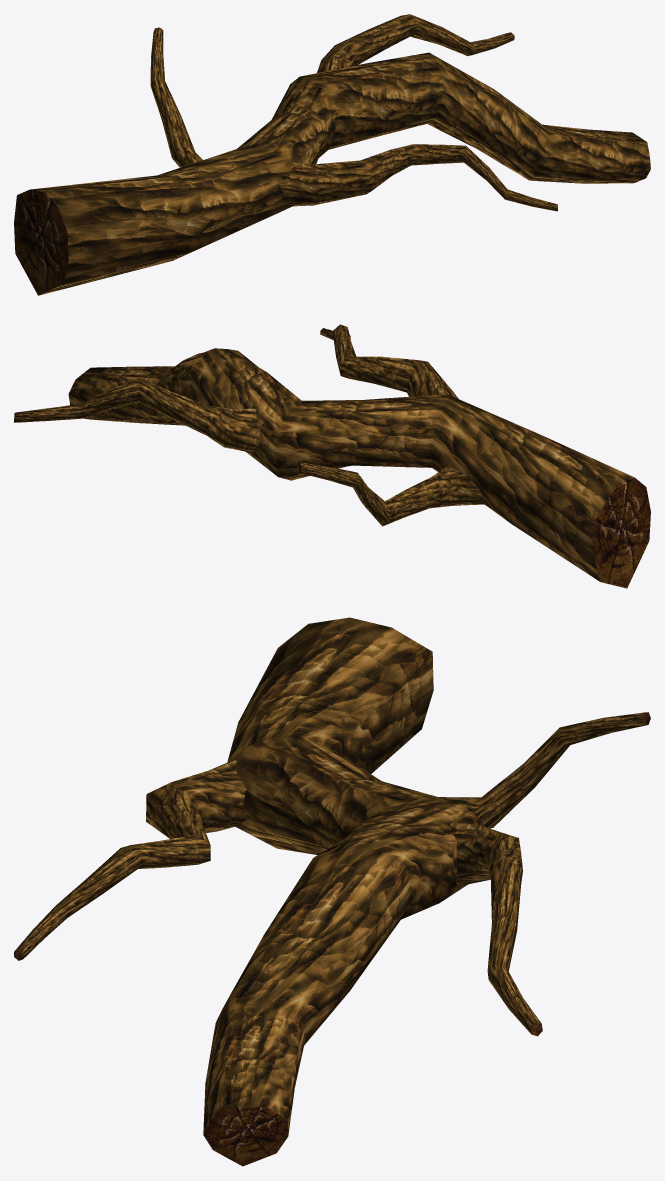
The model's file is LVL_ROAST_MUTTON_FALLEN_TREE.fbx.
The picture shows the model from 3 angles, top to bottom: view 1: azimuth 30°, elevation 25°; view 2: azimuth 150°, elevation 25°; view 3: azimuth 270°, elevation 25°; orthographic projection. The views are drawn at different scales.
Visible parts, largest first — view 1: LVL_ROAST_MUTTON_FALLEN_TREE; view 2: LVL_ROAST_MUTTON_FALLEN_TREE; view 3: LVL_ROAST_MUTTON_FALLEN_TREE.
Part boxes in pixels (<box>): LVL_ROAST_MUTTON_FALLEN_TREE: <box>14,14,650,295</box>; LVL_ROAST_MUTTON_FALLEN_TREE: <box>14,324,650,588</box>; LVL_ROAST_MUTTON_FALLEN_TREE: <box>14,617,650,1166</box>.
Size of the model in its own units: 105579 by 25233 by 69045.
2 materials, 2 textured.
